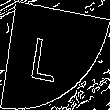L_N: (37, 27, 73, 83)
